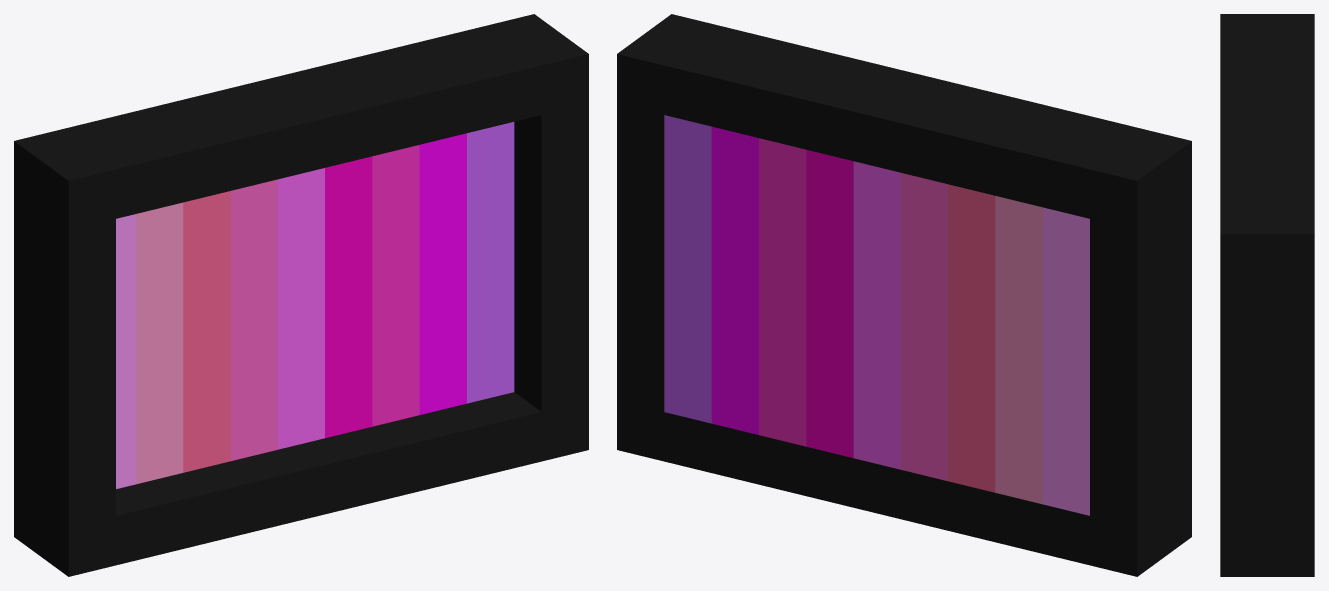
Rendered from Tableau_rose.obj.
3 views of the same model, side by side, from view 1: azimuth 30°, elevation 25°; view 2: azimuth 150°, elevation 25°; view 3: azimuth 270°, elevation 25° (orthographic). The views are drawn at different scales.
Size of the model in its own units: 1.1 by 0.8 by 0.2.
Materials: 1 (1 with a texture image).
